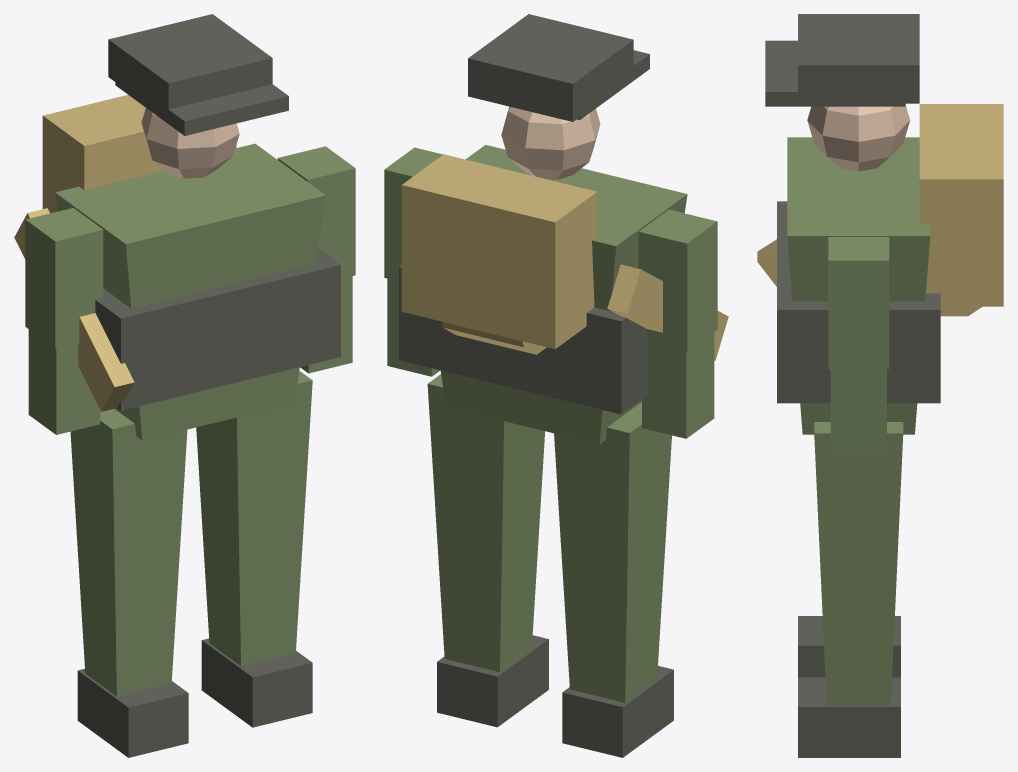
File: unit_mg_rigged.glb
3 views of the same model, side by side, from view 1: azimuth 30°, elevation 25°; view 2: azimuth 150°, elevation 25°; view 3: azimuth 270°, elevation 25° (orthographic).
Parts seen in each view (by area): view 1: body_torso, body_leg-right, body_leg-left, accent_torso, accent_head, trim_torso, body_arm-right, accent_leg-right, accent_leg-left, body_elbow-right, body_arm-left, skin_head (+1 smaller); view 2: trim_torso, body_leg-right, body_leg-left, accent_torso, body_torso, accent_head, body_arm-right, accent_leg-left, accent_leg-right, body_elbow-right, skin_head, body_arm-left (+1 smaller); view 3: body_leg-left, body_torso, trim_torso, accent_head, accent_torso, body_arm-left, accent_leg-left, skin_head, body_elbow-left, accent_leg-right.
Part boxes in pixels (x1,y1,x2,y2): body_torso: [55, 143, 325, 440]; body_leg-right: [70, 408, 187, 696]; body_leg-left: [196, 371, 312, 666]; accent_torso: [95, 248, 340, 410]; accent_head: [108, 14, 288, 135]; trim_torso: [14, 95, 236, 411]; body_arm-right: [25, 208, 103, 348]; accent_leg-right: [77, 668, 188, 757]; accent_leg-left: [201, 638, 312, 727]; body_elbow-right: [28, 329, 100, 434]; body_arm-left: [277, 146, 355, 278]; skin_head: [141, 108, 239, 178]; trim_torso: [401, 154, 728, 360]; body_leg-right: [554, 402, 671, 702]; body_leg-left: [427, 374, 544, 672]; accent_torso: [399, 265, 647, 414]; body_torso: [440, 145, 687, 444]; accent_head: [468, 14, 649, 121]; body_arm-right: [638, 209, 717, 351]; accent_leg-left: [437, 635, 548, 727]; accent_leg-right: [562, 666, 673, 757]; body_elbow-right: [642, 332, 714, 438]; skin_head: [501, 106, 600, 179]; body_arm-left: [384, 147, 442, 281]; body_leg-left: [814, 422, 903, 705]; body_torso: [787, 137, 930, 434]; trim_torso: [757, 104, 1003, 316]; accent_head: [765, 14, 919, 106]; accent_torso: [777, 201, 940, 403]; body_arm-left: [828, 237, 889, 369]; accent_leg-left: [798, 677, 900, 757]; skin_head: [807, 105, 910, 171]; body_elbow-left: [830, 369, 886, 456]; accent_leg-right: [798, 616, 900, 677].
Size of the model in its own units: 1.31 by 2.76 by 0.9181.
